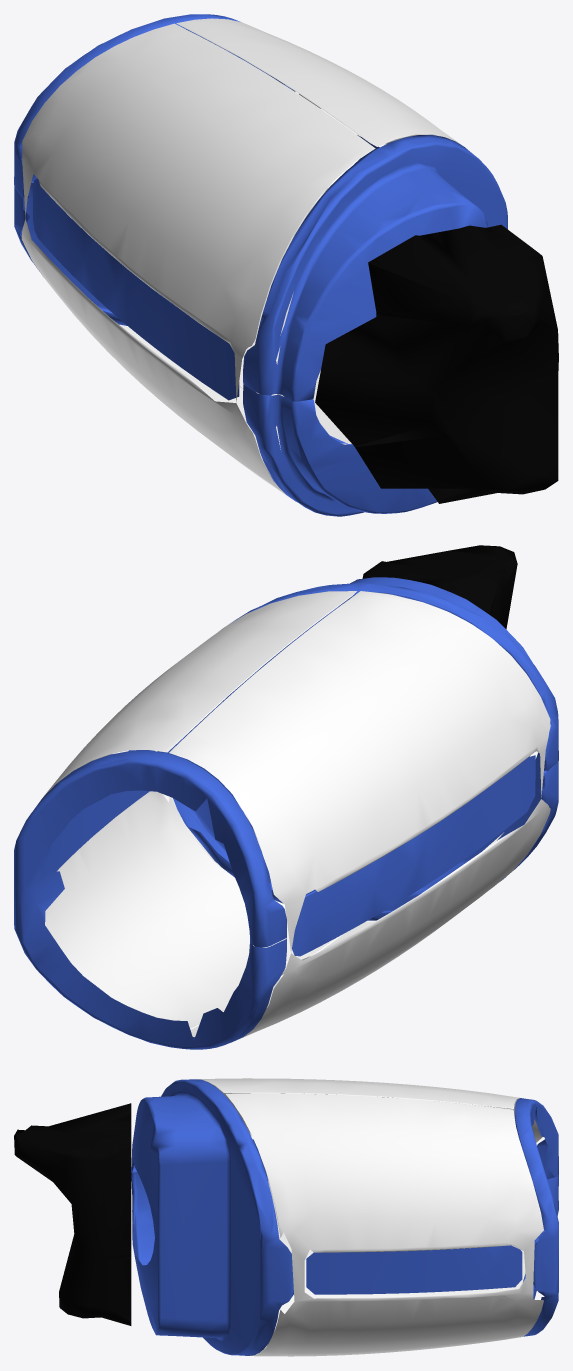
The model's file is sim_ecub_1-1_l_forearm.obj.
3 views of the same model, one above another, from view 1: azimuth 30°, elevation 25°; view 2: azimuth 150°, elevation 25°; view 3: azimuth 270°, elevation 25° (orthographic). The views are drawn at different scales.
Bounding box in the file's own units: 106 × 106 × 209.
